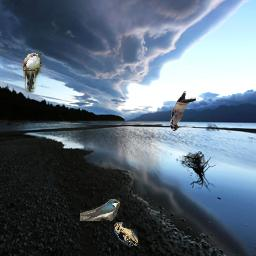Cuckoo: (23, 53, 42, 93)
Swallow: (80, 199, 120, 221)
Woodpecker: (170, 91, 196, 131), (114, 222, 138, 246)
